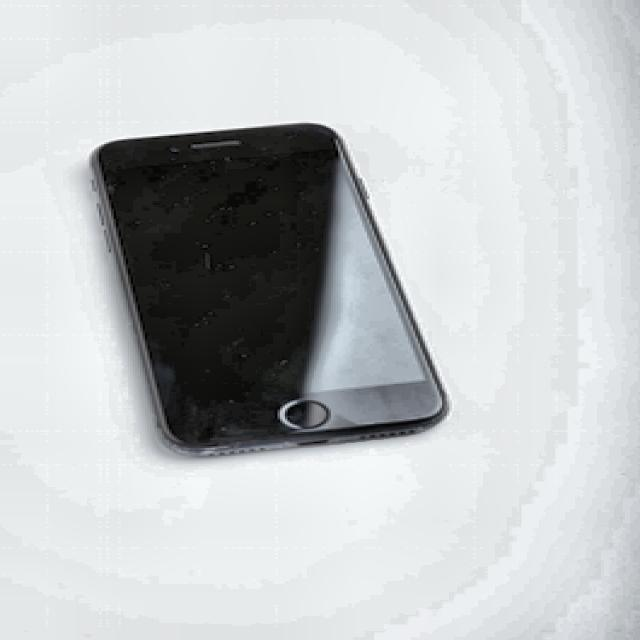Phone: (78, 120, 456, 462)
